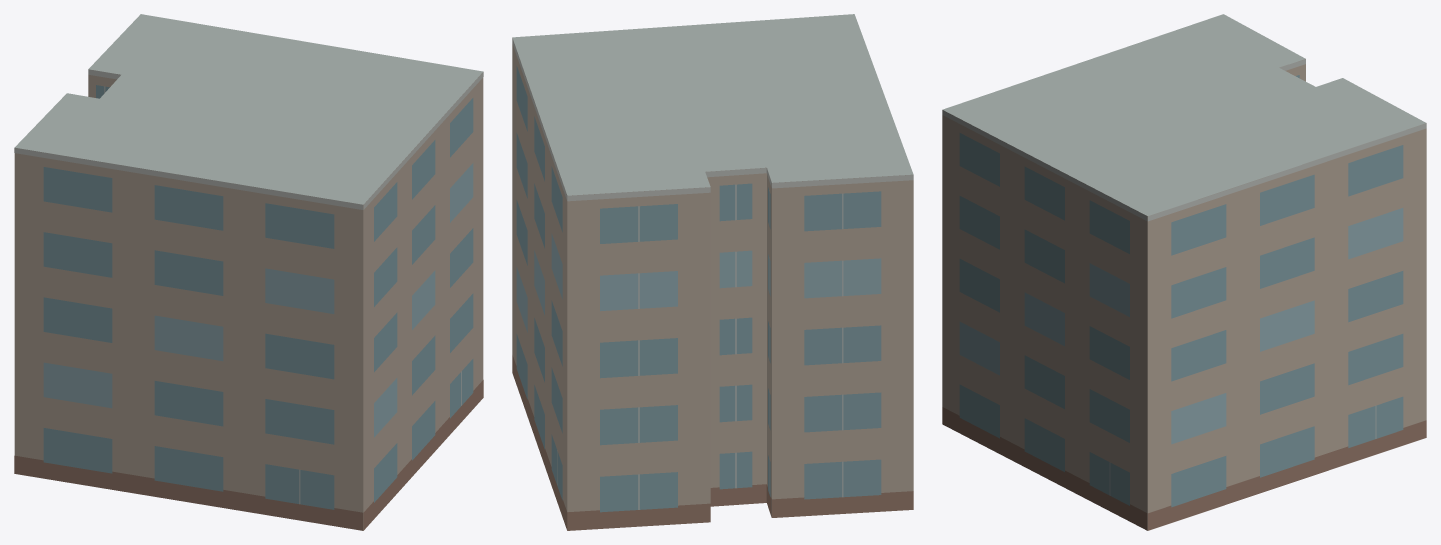
Rendered from survey-upis-33021895.glb.
3 renders of one model, left to right at view 1: azimuth 30°, elevation 25°; view 2: azimuth 150°, elevation 25°; view 3: azimuth 270°, elevation 25°, orthographic. The views are drawn at different scales.
Visible parts, largest first — view 1: survey-upis-33021895.tmp; view 2: survey-upis-33021895.tmp; view 3: survey-upis-33021895.tmp.
Part boxes in pixels (<box>): survey-upis-33021895.tmp: <box>14,14,483,530</box>; survey-upis-33021895.tmp: <box>512,14,913,530</box>; survey-upis-33021895.tmp: <box>942,14,1426,530</box>.
Size of the model in its own units: 20.14 by 14.6 by 20.38.
